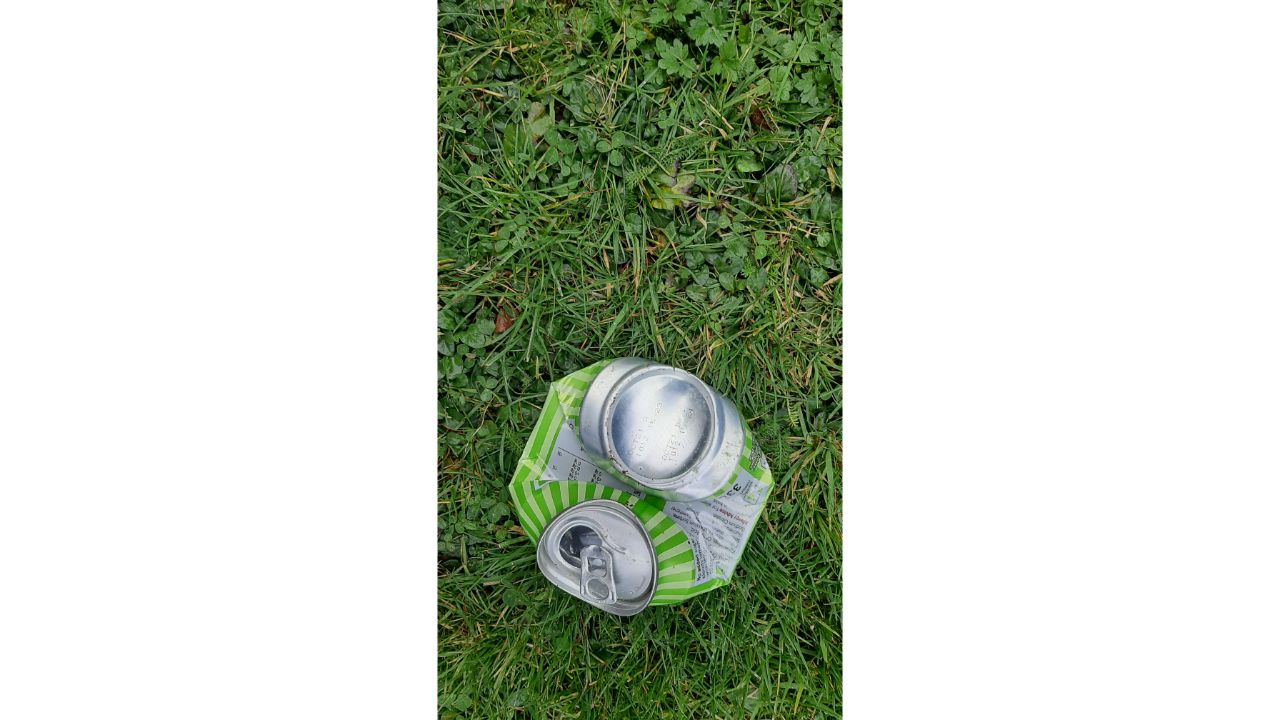Can: (508, 352, 777, 615)
